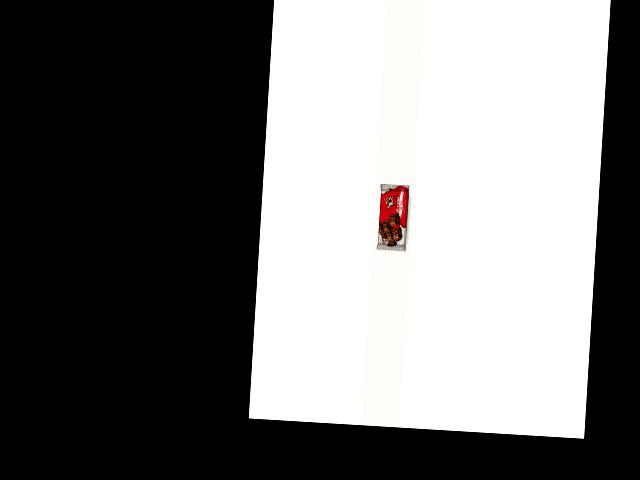chocolate: (380, 173, 425, 253)
